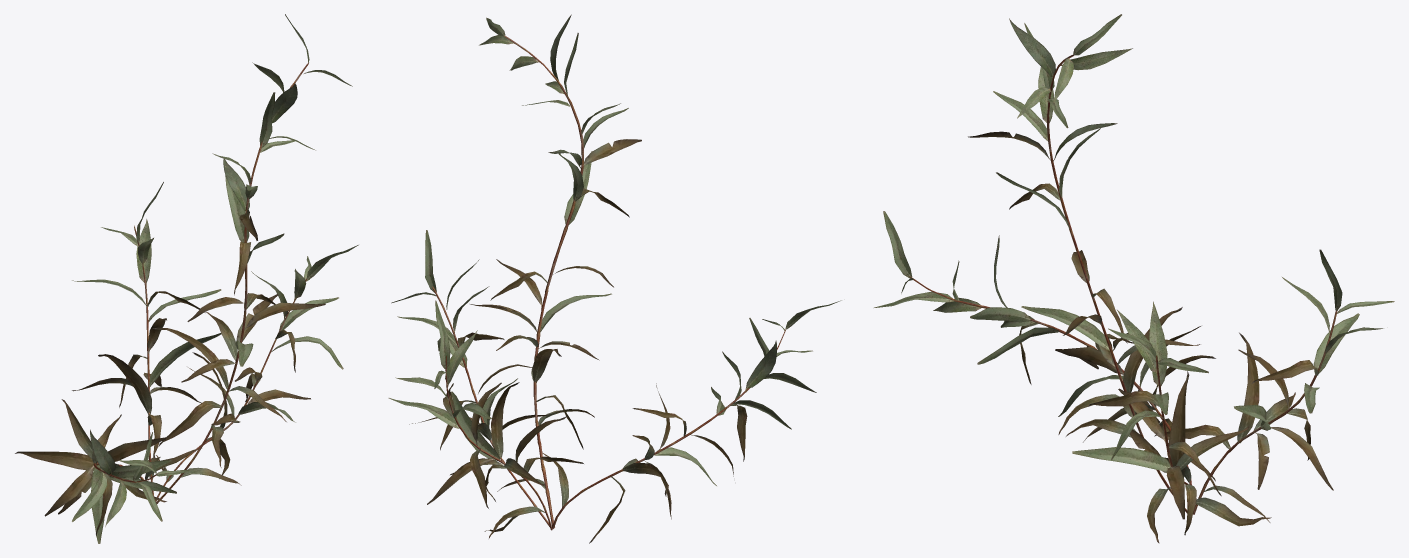
Rendered from shrub_02~1.glb.
3 views of the same model, side by side, from view 1: azimuth 30°, elevation 25°; view 2: azimuth 150°, elevation 25°; view 3: azimuth 270°, elevation 25° (orthographic). The views are drawn at different scales.
Parts seen in each view (by area): view 1: shrub_02_b; view 2: shrub_02_b; view 3: shrub_02_b.
Part boxes in pixels (box(x1,y1,x2,y2)): shrub_02_b: box(15, 14, 358, 543); shrub_02_b: box(388, 14, 841, 543); shrub_02_b: box(874, 14, 1394, 543).
Bounding box in the file's own units: 1.11 × 1.51 × 1.28.
Materials: 1 (1 with a texture image).
